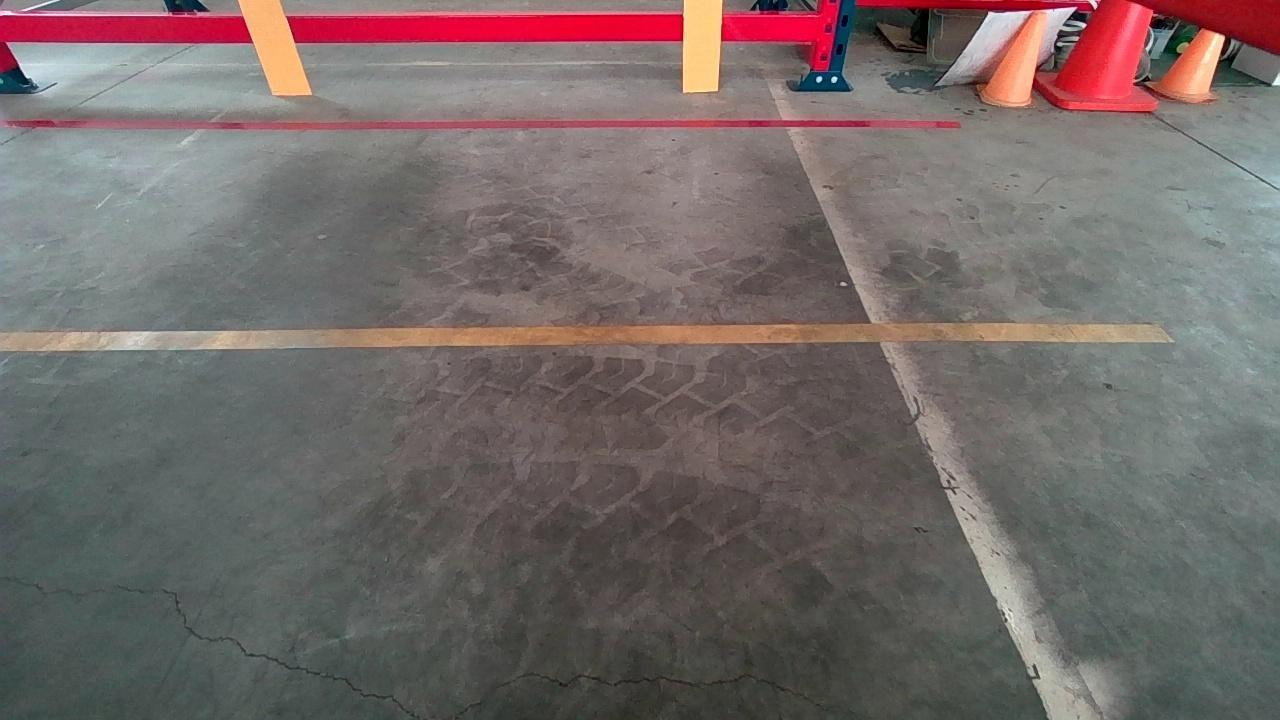orange_strip: (239, 0, 312, 93), (682, 0, 721, 90)
red_line: (5, 113, 962, 135)
